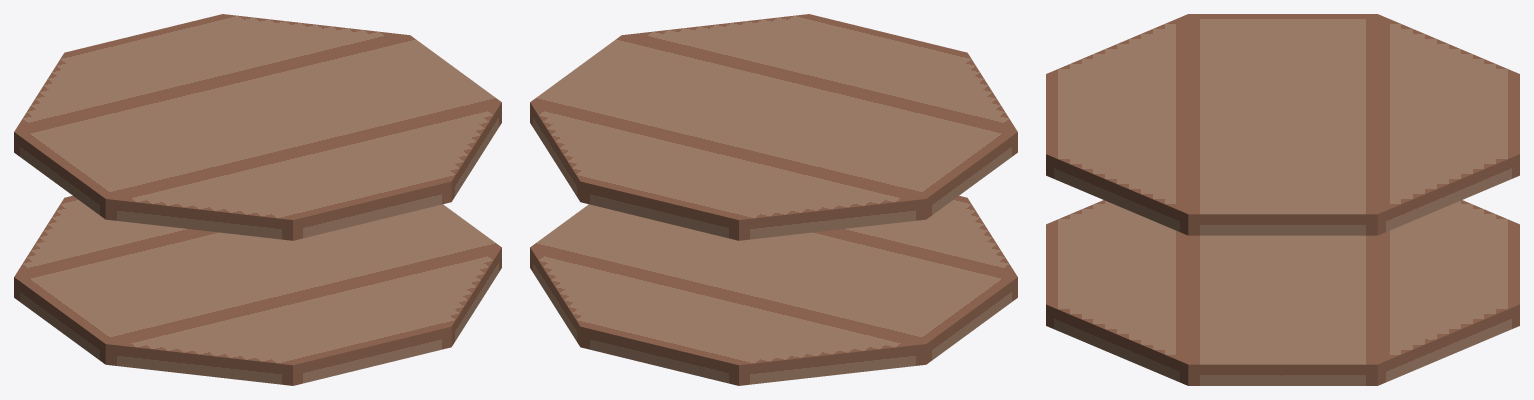
File: disruptor_segment.obj
The picture shows the model from 3 angles, left to right: view 1: azimuth 30°, elevation 25°; view 2: azimuth 150°, elevation 25°; view 3: azimuth 270°, elevation 25°; orthographic projection. The views are drawn at different scales.
Visible parts, largest first — view 1: cube; view 2: cube; view 3: cube.
Part boxes in pixels (x1=…): cube: x1=14, y1=14, x2=501, y2=385; cube: x1=530, y1=14, x2=1017, y2=385; cube: x1=1046, y1=14, x2=1519, y2=385.
Bounding box in the file's own units: 2.5 × 1 × 2.5.
